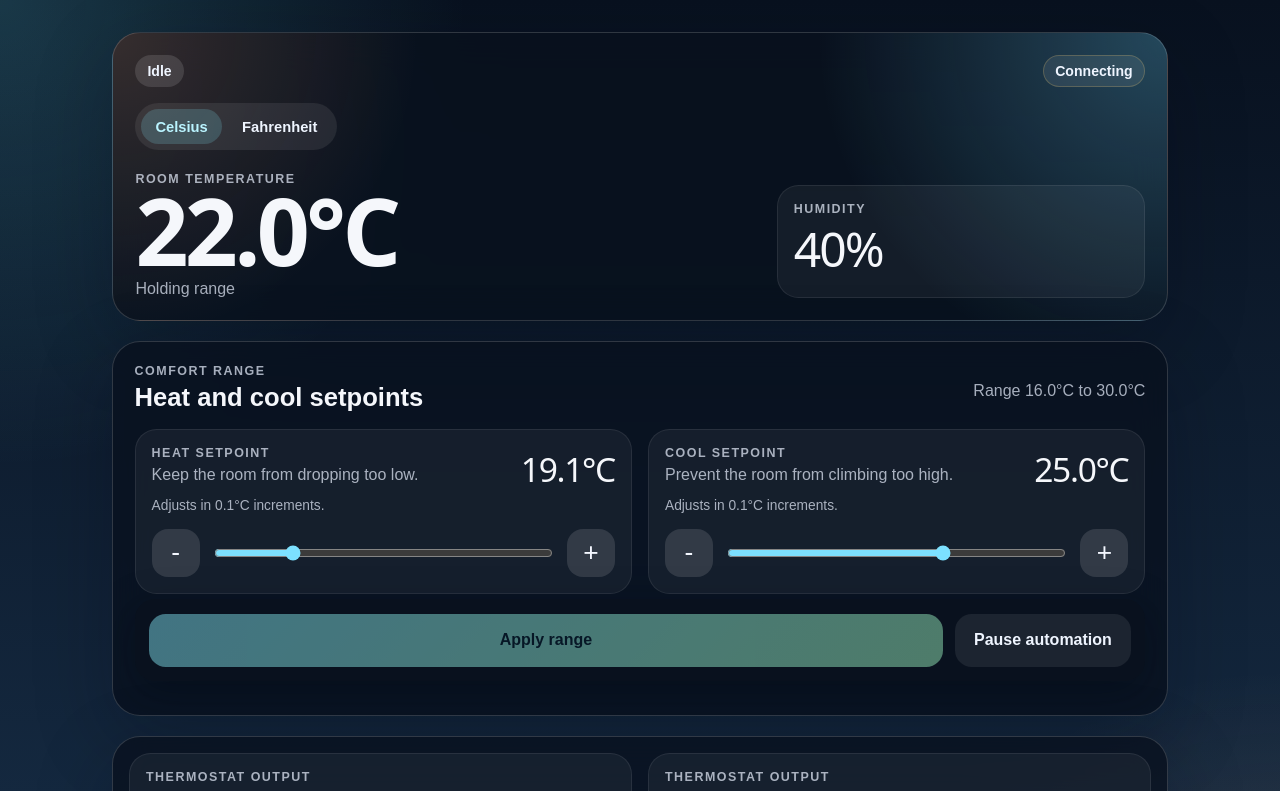
Test: App › can display temperatures in fahrenheit while keeping backend values in celsius
The width and height of the screenshot is (1280, 791).
Expected: the heading "22.0°C" is shown, x1=135 y1=167 x2=398 y2=293
Click the button "Fahrenheit" at (280, 127), box x1=228 y1=109 x2=332 y2=144
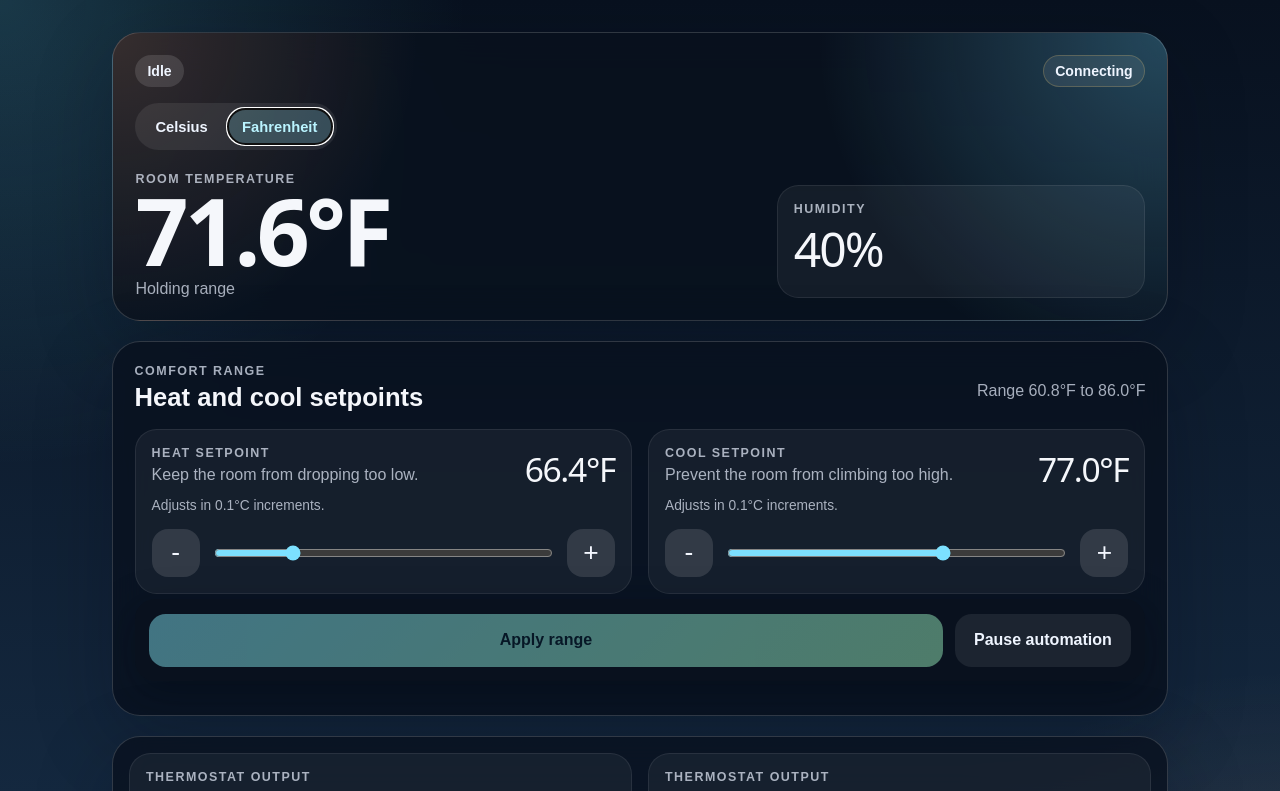
Now the heading "71.6°F" is shown, box x1=135 y1=167 x2=390 y2=293
Now the text "66.4°F" is shown, box x1=525 y1=446 x2=615 y2=492
Now the text "77.0°F" is shown, box x1=1038 y1=446 x2=1128 y2=492
